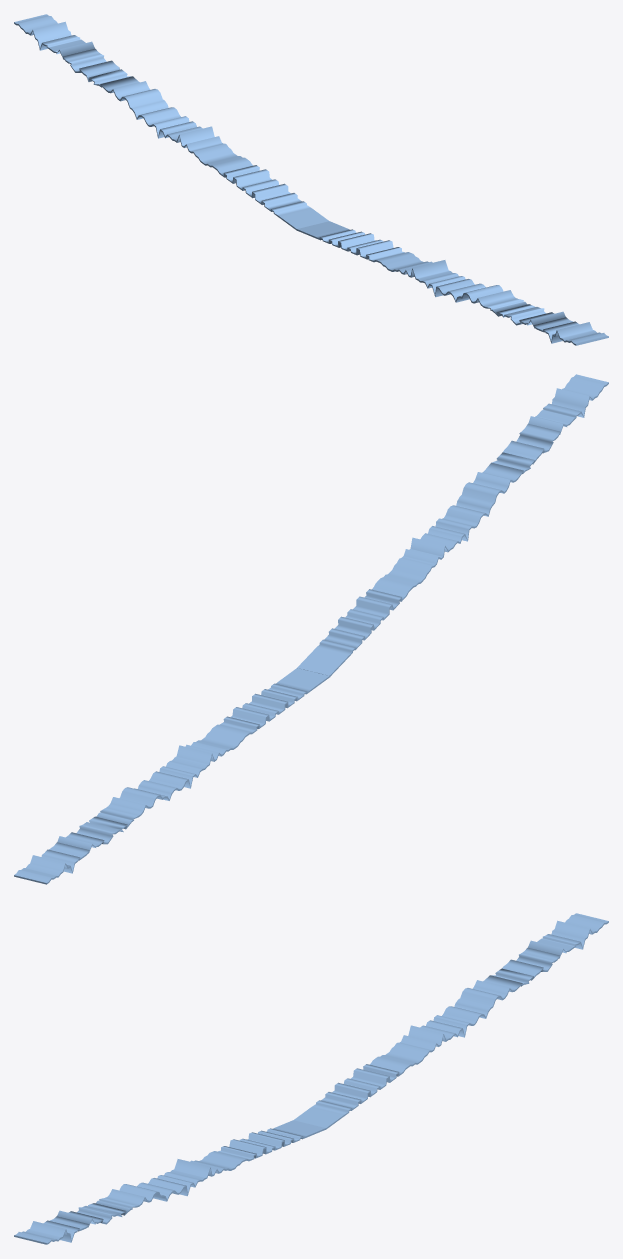
Rendered from env_foot_ik_runway.glb.
3 views of the same model, one above another, from view 1: azimuth 30°, elevation 25°; view 2: azimuth 150°, elevation 25°; view 3: azimuth 330°, elevation 25° (orthographic).
Visible parts, largest first — view 1: Plane01; view 2: Plane01; view 3: Plane01.
Part boxes in pixels (box(x1,y1,x2,y2)): Plane01: box(14, 14, 608, 345); Plane01: box(14, 374, 608, 884); Plane01: box(14, 913, 608, 1244).
Size of the model in its own units: 2.16 by 5.88 by 59.5.
